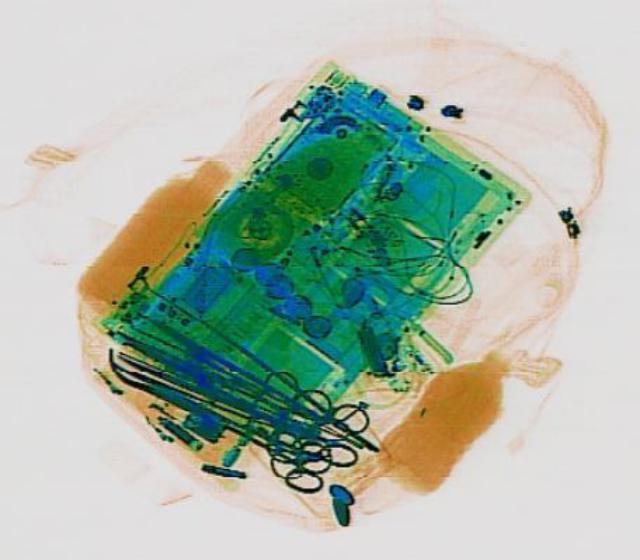Scissors: (205, 390, 362, 502)
